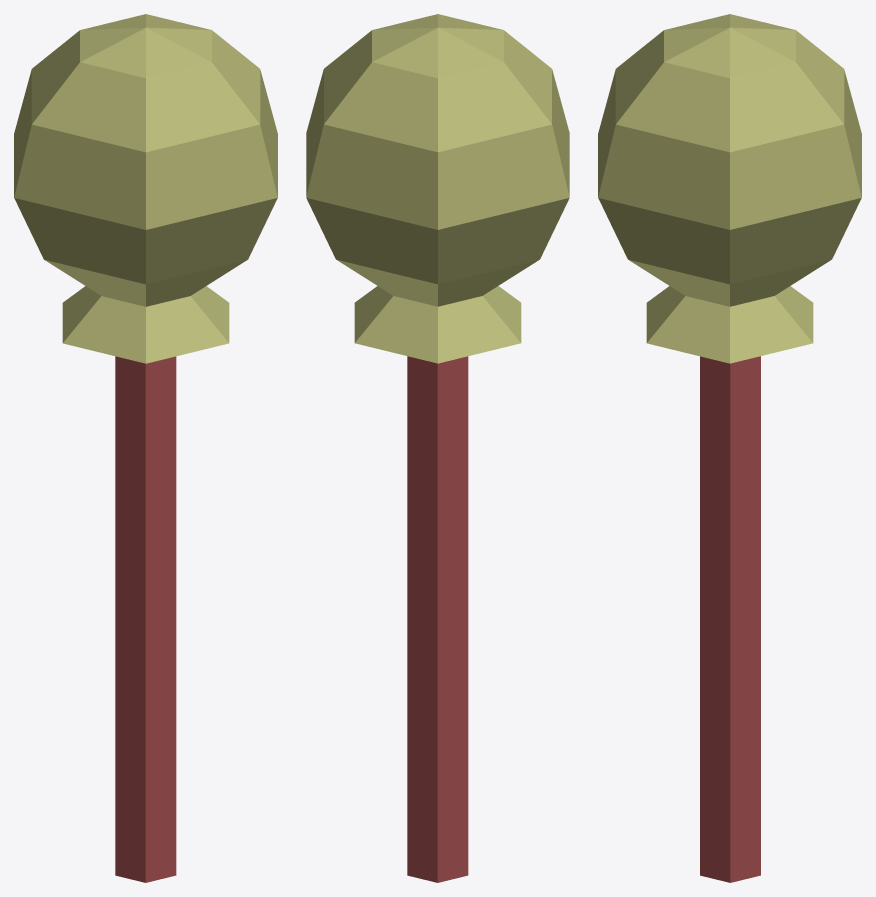
File: stick.gltf
The picture shows the model from 3 angles, left to right: view 1: azimuth 30°, elevation 25°; view 2: azimuth 150°, elevation 25°; view 3: azimuth 270°, elevation 25°; orthographic projection.
Visible parts, largest first — view 1: pSphere2 group3, group3 pCylinder2; view 2: pSphere2 group3, group3 pCylinder2; view 3: pSphere2 group3, group3 pCylinder2.
Boxes of the visible parts, bbox=[...] form: pSphere2 group3: bbox=[14, 14, 277, 363]; group3 pCylinder2: bbox=[115, 356, 176, 882]; pSphere2 group3: bbox=[306, 14, 569, 363]; group3 pCylinder2: bbox=[407, 356, 468, 882]; pSphere2 group3: bbox=[598, 14, 861, 363]; group3 pCylinder2: bbox=[700, 356, 760, 882].
Size of the model in its own units: 0.3636 by 1.11 by 0.3149.
